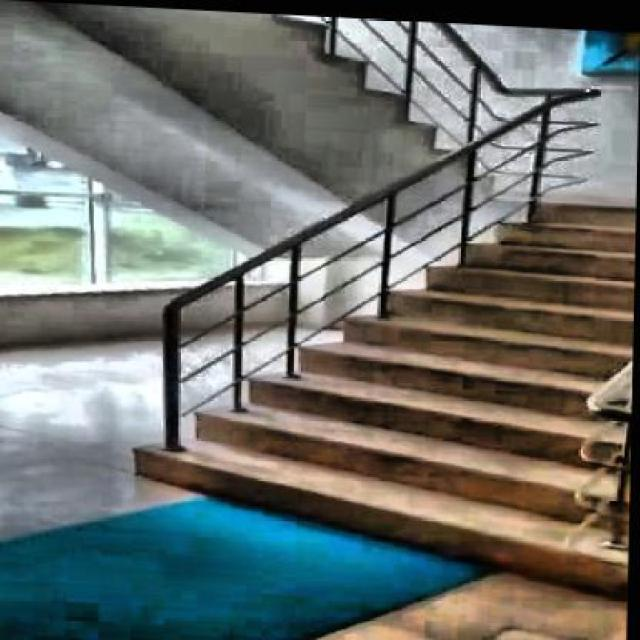stair: (124, 154, 636, 557)
